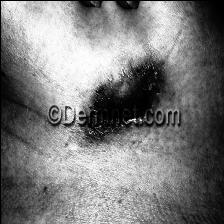Potentially Malignant Skin Tumors: (80, 57, 176, 107), (81, 128, 161, 144)
